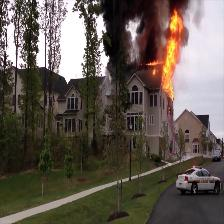fire: (159, 23, 184, 97)
smoke: (101, 1, 155, 68)
